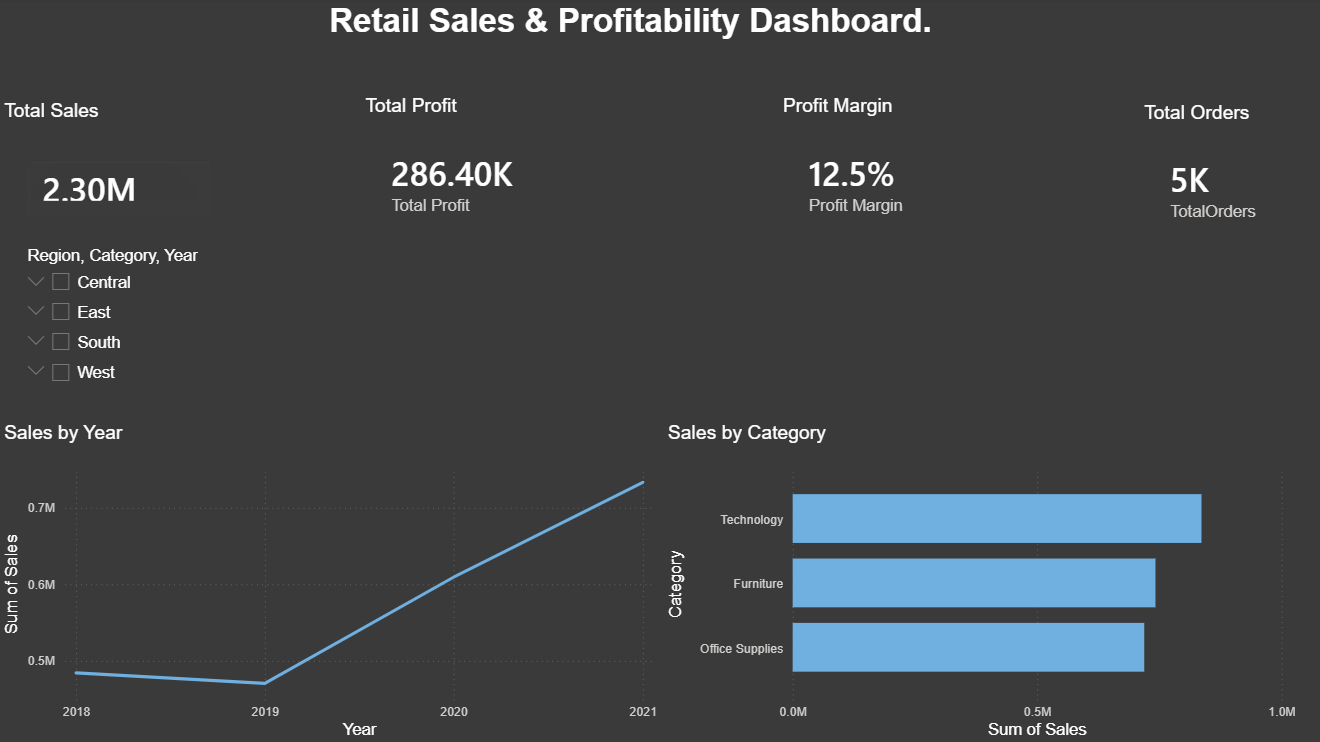

The dashboard page shown, as its layout file describes it:
{"tool":"powerbi","page":{"name":"sales_1","canvas":[1280,720],"ordinal":0},"visuals":[{"type":"cardVisual","title":"Total Sales","fields":{"Data":["Sum(Sample - Superstore.Sales)"]},"box":[0,94.1,222,136.3],"z":0},{"type":"cardVisual","title":"Total Profit","fields":{"Data":["Sum(Sample - Superstore.Profit)"]},"box":[348.7,94.1,201.5,136.3],"z":1000},{"type":"cardVisual","title":"Total Orders","fields":{"Data":["Sample - Superstore.TotalOrders"]},"box":[1100.3,101.3,179.8,133.9],"z":2000},{"type":"cardVisual","title":"Profit Margin","fields":{"Data":["Sample - Superstore.PrMargin"]},"box":[751.6,94.1,162.9,136.3],"z":3000},{"type":"lineChart","title":"Sales by Year","fields":{"Category":["Sample - Superstore.Order Date.Variation.Date Hierarchy.Year","Sample - Superstore.Order Date.Variation.Date Hierarchy.Quarter","Sample - Superstore.Order Date.Variation.Date Hierarchy.Month","Sample - Superstore.Order Date.Variation.Date Hierarchy.Day"],"Y":["Sum(Sample - Superstore.Sales)"]},"box":[0,410.2,640.6,310.1],"z":4000},{"type":"clusteredBarChart","title":"Sales by Category","fields":{"Category":["Sample - Superstore.Category"],"Y":["Sum(Sample - Superstore.Sales)"]},"box":[640.6,410.2,616.5,310.1],"z":5000},{"type":"textbox","box":[313.7,0,612.9,74.8],"z":6000},{"type":"slicer","fields":{"Values":["Sample - Superstore.Region","Sample - Superstore.Category","Sample - Superstore.Ship Date.Variation.Date Hierarchy.Year"]},"box":[14.5,235.3,737.1,174.9],"z":7000}]}

Visuals, with their boxes in screenshot pixels (x1, y1, x2, y2), scaled from the page's 1280x720 canvas onto the 1320x742 screenshot:
"Total Sales" cardVisual: (0, 97, 229, 237)
"Total Profit" cardVisual: (360, 97, 567, 237)
"Total Orders" cardVisual: (1135, 104, 1319, 242)
"Profit Margin" cardVisual: (775, 97, 943, 237)
"Sales by Year" lineChart: (0, 423, 661, 741)
"Sales by Category" clusteredBarChart: (661, 423, 1296, 741)
textbox: (324, 0, 956, 77)
slicer - Sample - Superstore.Region x Sample - Superstore.Category: (15, 242, 775, 423)
